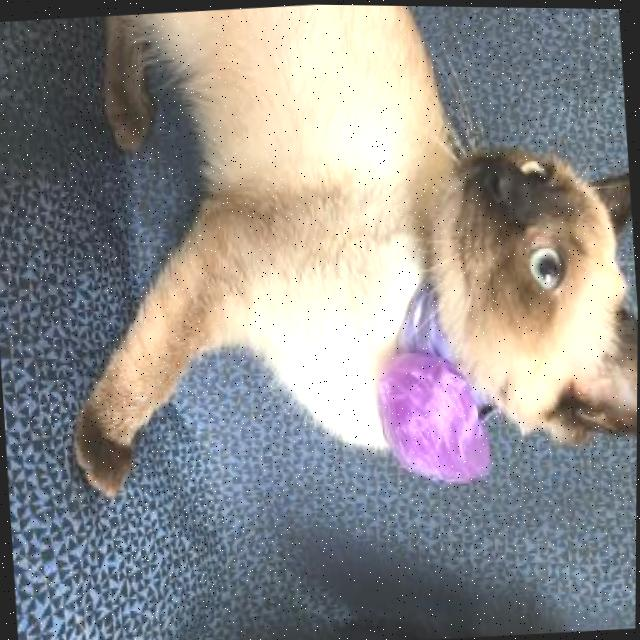Siamese: (39, 0, 640, 517)
